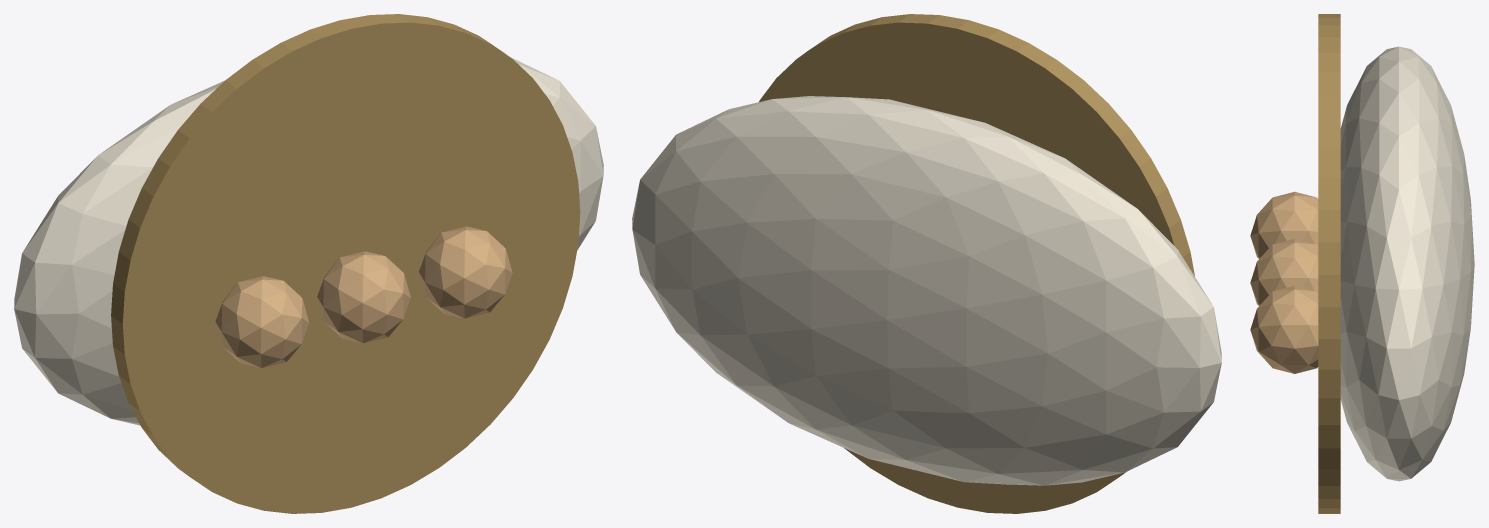
Rendered from prop_bottom_ceramic_bowl.glb.
The picture shows the model from 3 angles, left to right: view 1: azimuth 30°, elevation 25°; view 2: azimuth 150°, elevation 25°; view 3: azimuth 270°, elevation 25°; orthographic projection. The views are drawn at different scales.
Visible parts, largest first — view 1: prop_bottom_ceramic_bowl_brass_rim, prop_bottom_ceramic_bowl_shallow_ivory_bowl, prop_bottom_ceramic_bowl_small_pebble_2, prop_bottom_ceramic_bowl_small_pebble_1, prop_bottom_ceramic_bowl_small_pebble_3; view 2: prop_bottom_ceramic_bowl_shallow_ivory_bowl, prop_bottom_ceramic_bowl_brass_rim; view 3: prop_bottom_ceramic_bowl_shallow_ivory_bowl, prop_bottom_ceramic_bowl_brass_rim, prop_bottom_ceramic_bowl_small_pebble_3, prop_bottom_ceramic_bowl_small_pebble_1, prop_bottom_ceramic_bowl_small_pebble_2.
Part boxes in pixels (left/top/right/bottom): prop_bottom_ceramic_bowl_brass_rim: left=111, top=14, right=580, bottom=513; prop_bottom_ceramic_bowl_shallow_ivory_bowl: left=14, top=57, right=603, bottom=425; prop_bottom_ceramic_bowl_small_pebble_2: left=317, top=251, right=410, bottom=343; prop_bottom_ceramic_bowl_small_pebble_1: left=215, top=276, right=309, bottom=368; prop_bottom_ceramic_bowl_small_pebble_3: left=419, top=226, right=512, bottom=318; prop_bottom_ceramic_bowl_shallow_ivory_bowl: left=632, top=96, right=1221, bottom=485; prop_bottom_ceramic_bowl_brass_rim: left=759, top=14, right=1194, bottom=513; prop_bottom_ceramic_bowl_shallow_ivory_bowl: left=1340, top=46, right=1474, bottom=481; prop_bottom_ceramic_bowl_brass_rim: left=1318, top=14, right=1340, bottom=513; prop_bottom_ceramic_bowl_small_pebble_3: left=1250, top=285, right=1318, bottom=373; prop_bottom_ceramic_bowl_small_pebble_1: left=1250, top=191, right=1318, bottom=258; prop_bottom_ceramic_bowl_small_pebble_2: left=1250, top=238, right=1318, bottom=305.
Bounding box in the file's own units: 0.399 × 0.3096 × 0.1388.
